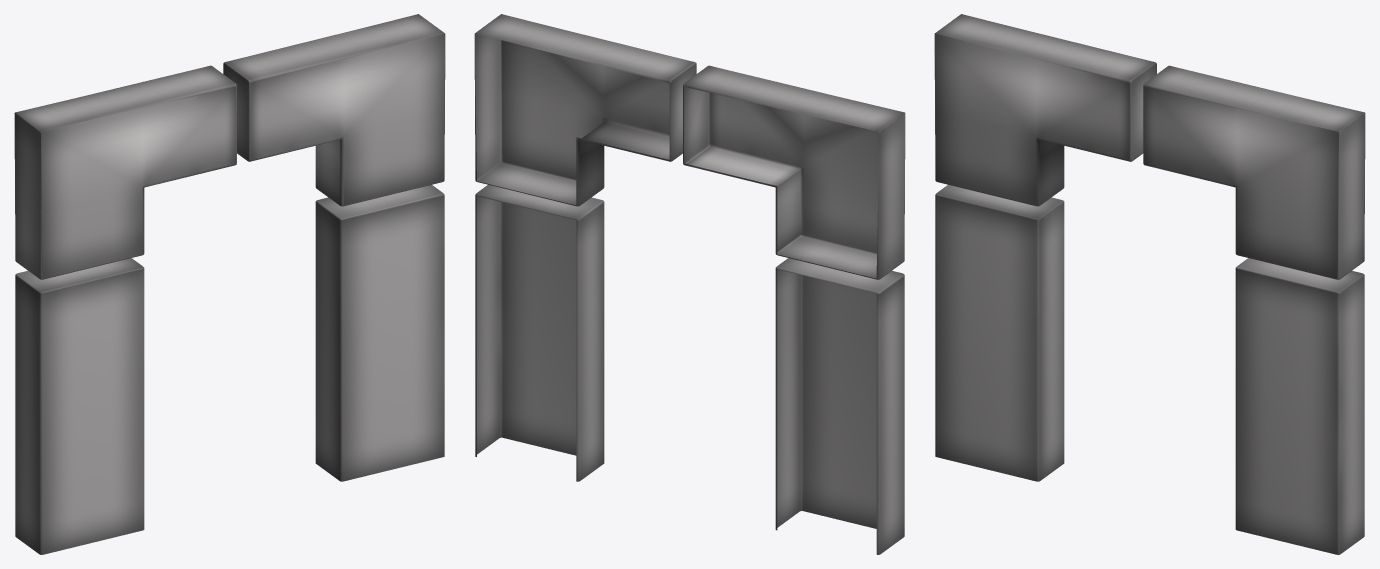
Rendered from DoorFrameLight01_2.FBX.
The picture shows the model from 3 angles, left to right: view 1: azimuth 30°, elevation 25°; view 2: azimuth 150°, elevation 25°; view 3: azimuth 330°, elevation 25°; orthographic projection.
Visible parts, largest first — view 1: Doorway01; view 2: Doorway01; view 3: Doorway01.
Boxes of the visible parts, x1,y1,x2,y2 form: Doorway01: [14, 14, 445, 554]; Doorway01: [474, 14, 905, 554]; Doorway01: [934, 14, 1365, 554].
Bounding box in the file's own units: 310 × 310 × 35.
